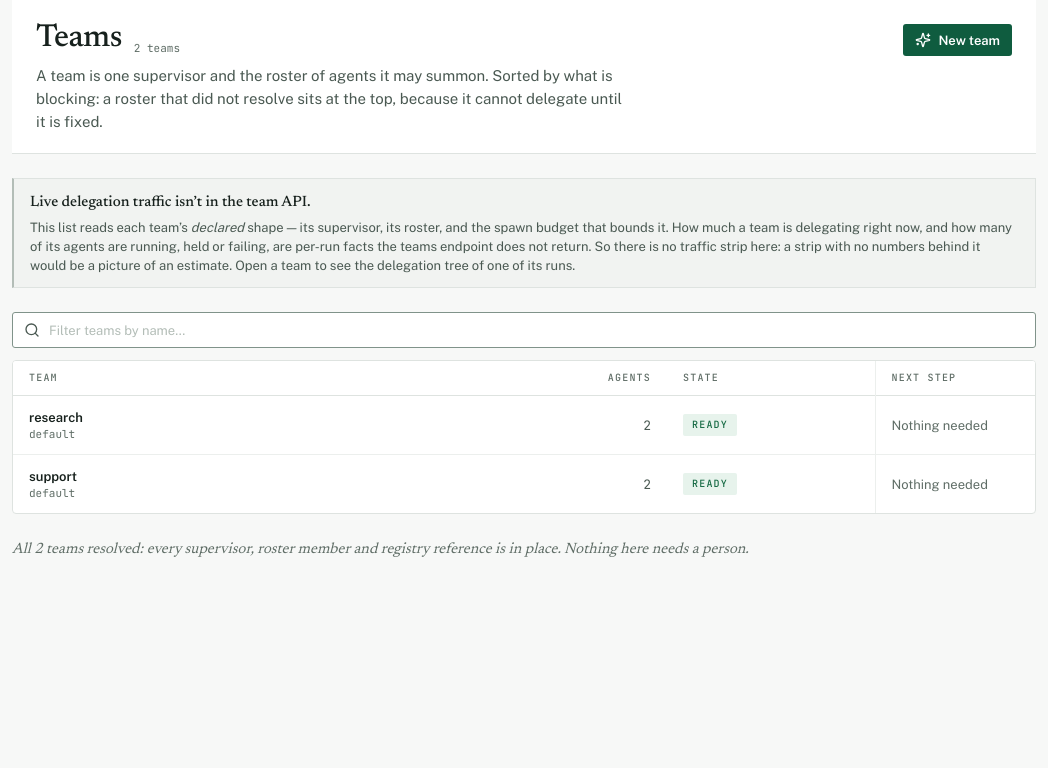
Test: TeamsPage — the §4.4 teams-index budget › filters teams by name
Check: the text "research" is shown, box [29, 410, 83, 425]
Type "sup" into the field named "Filter list" at (524, 330), box [12, 312, 1036, 348]
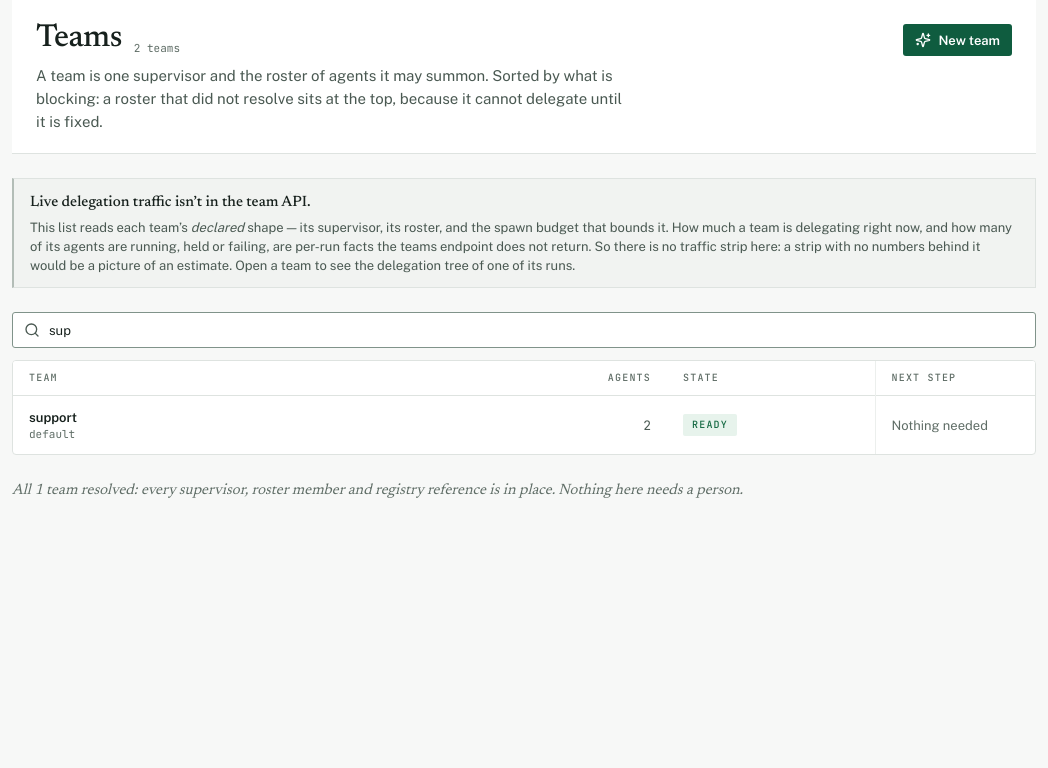
Check: the text "support" is shown, box [29, 410, 77, 425]
Check: the text "research" is gone
